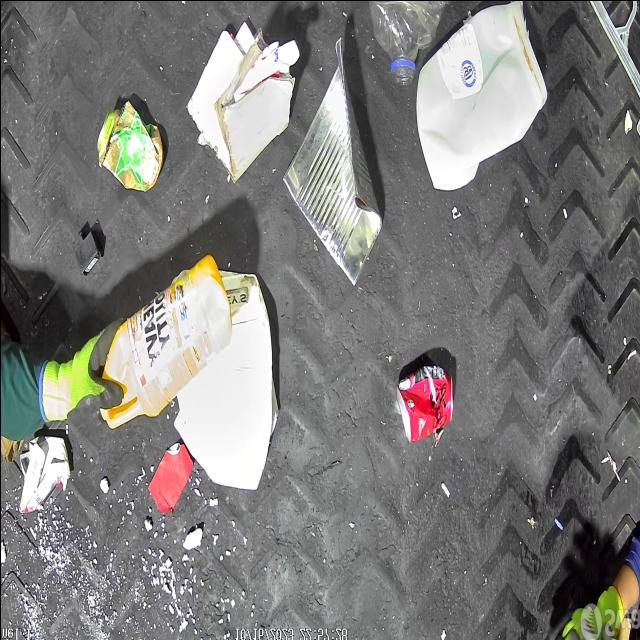can: (395, 364, 453, 442)
milk_jug: (414, 0, 548, 191)
non_white_jug: (100, 254, 232, 428)
plastic_bottle: (367, 0, 454, 86)
